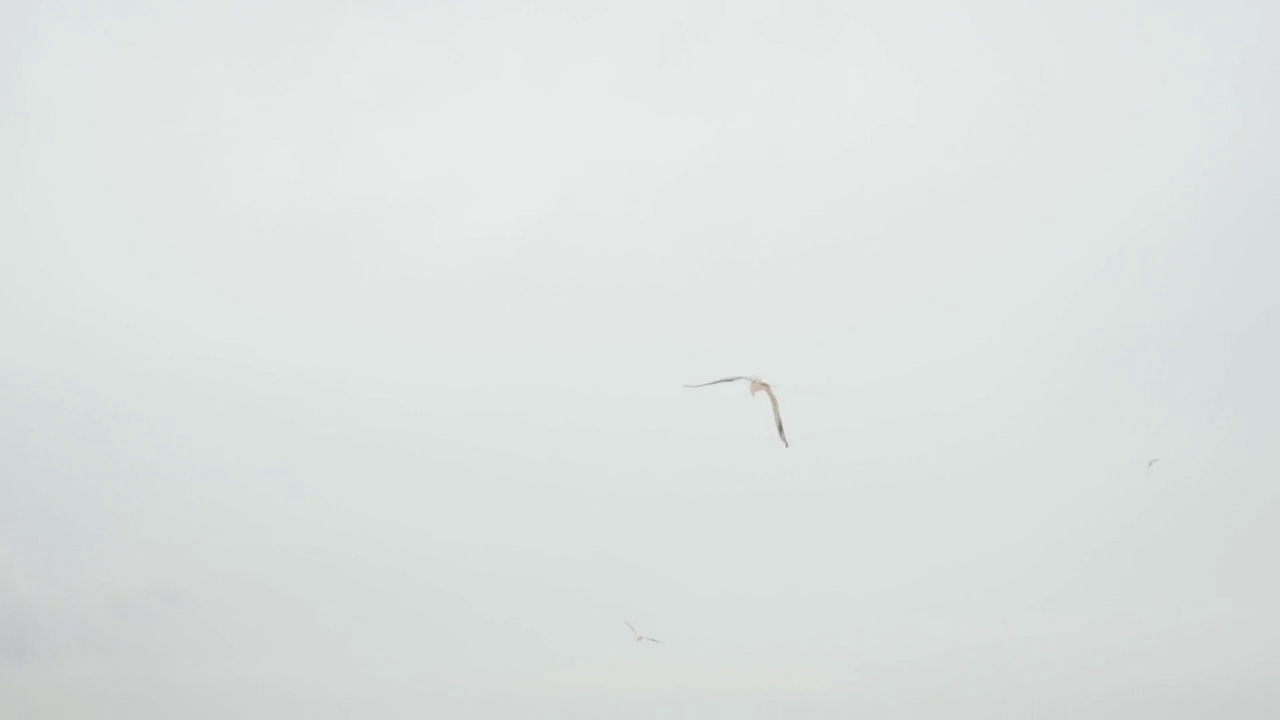bird: (680, 378, 791, 447), (624, 618, 661, 648)
